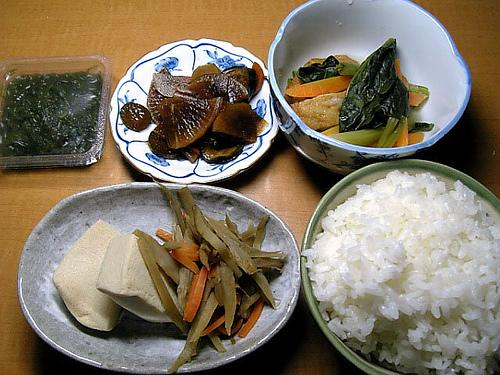plate: (110, 38, 278, 183)
